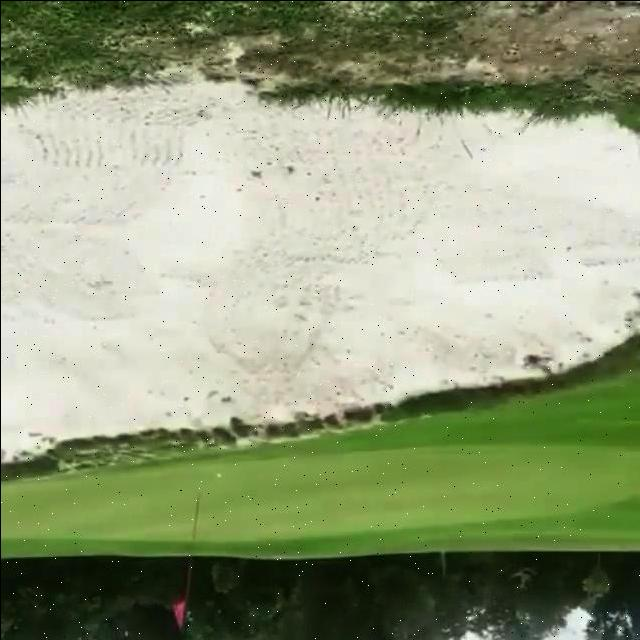golf ball: (216, 471, 221, 476)
